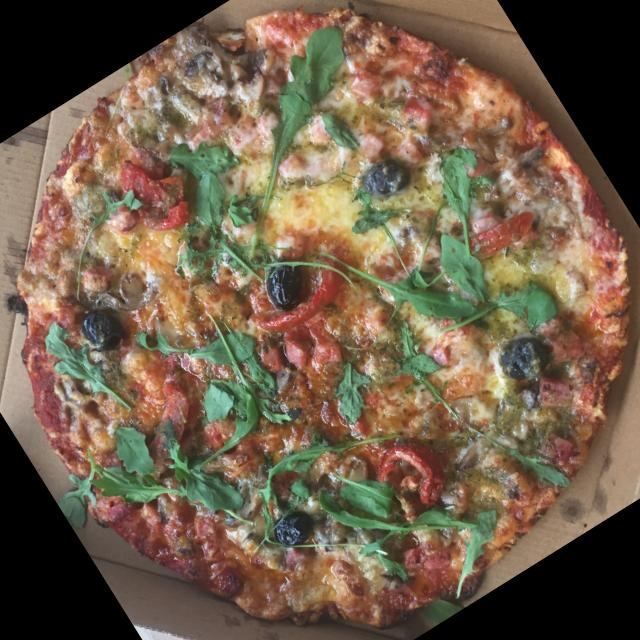pizza: (15, 8, 634, 633), (486, 326, 551, 388)
